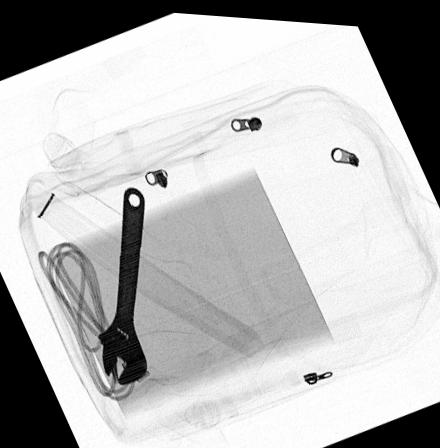Wrench: (97, 183, 148, 385)
